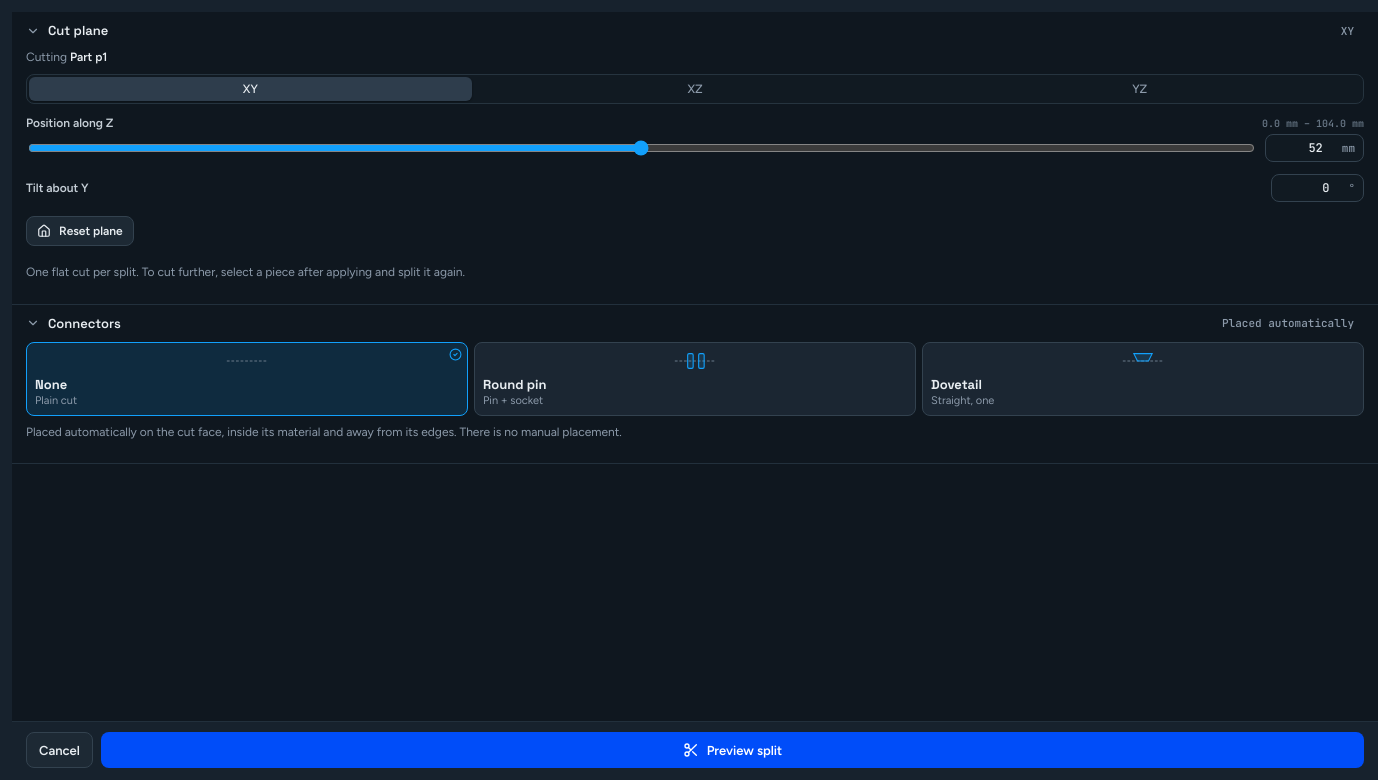
connectors › states pin clearance precisely and shows the socket it produces
Click the radio button with test id "split-connector-pin".
click(695, 361)  # box [474,342,916,416]
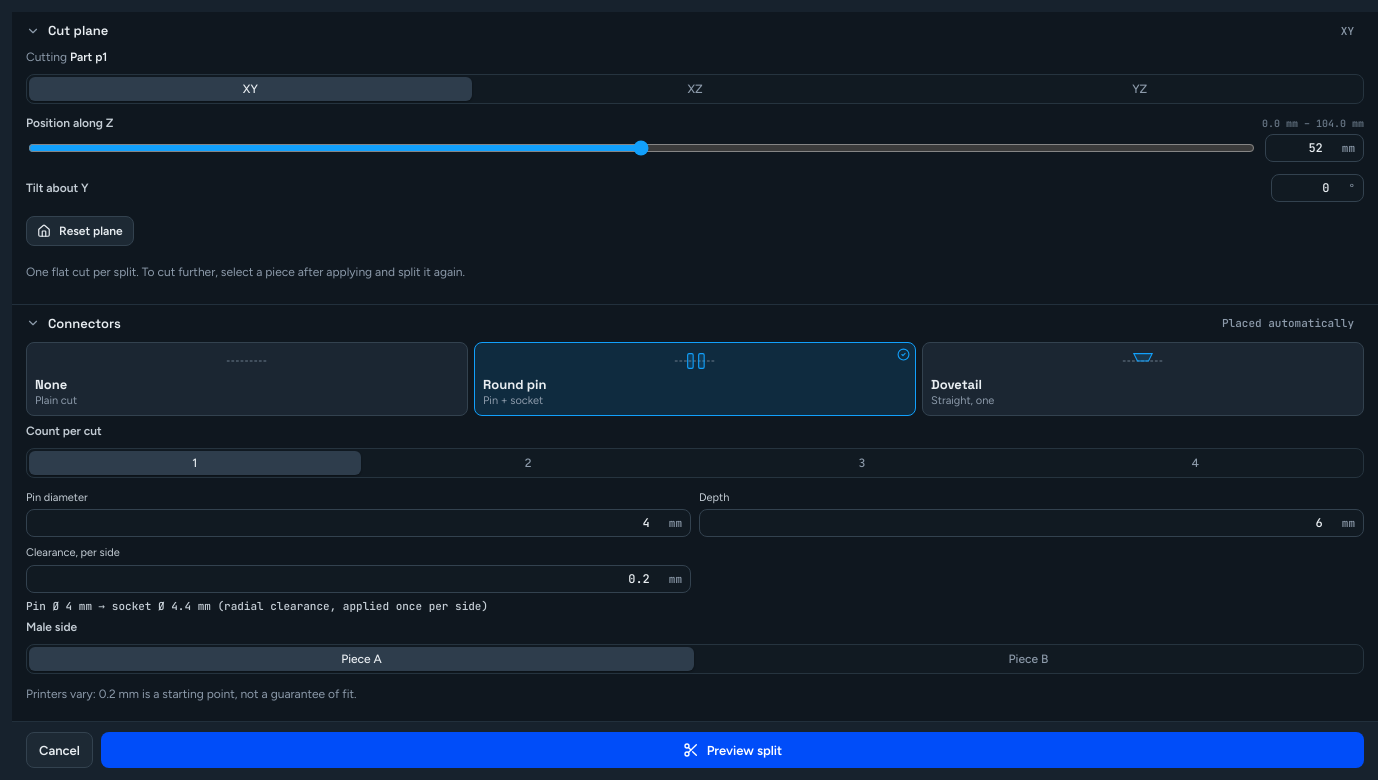
Result: the number field named "Clearance, per side, millimetres" holds "0.2"
Result: the text with test id "split-socket-size" shows "Pin Ø 4 mm → socket Ø 4.4 mm" at [26,598,488,612]
Replace the text in the number field with test id "split-clearance" with "0.3" at [350, 578], box [35,566,665,592]
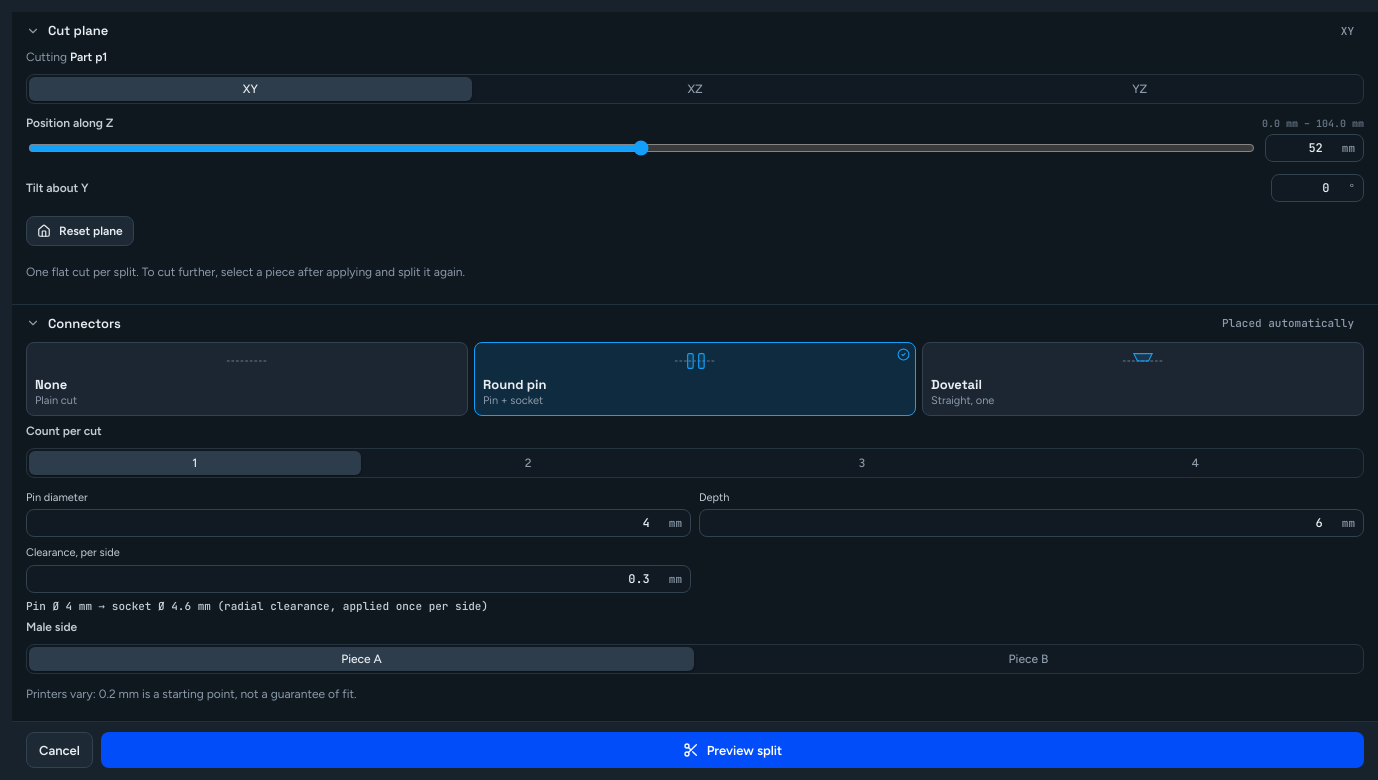
Result: the text with test id "split-socket-size" shows "socket Ø 4.6 mm" at [26,598,488,612]
